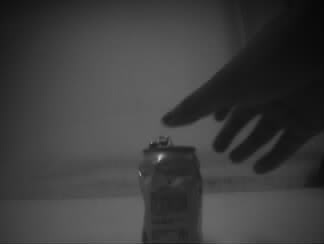Tin can: (137, 135, 202, 244)
